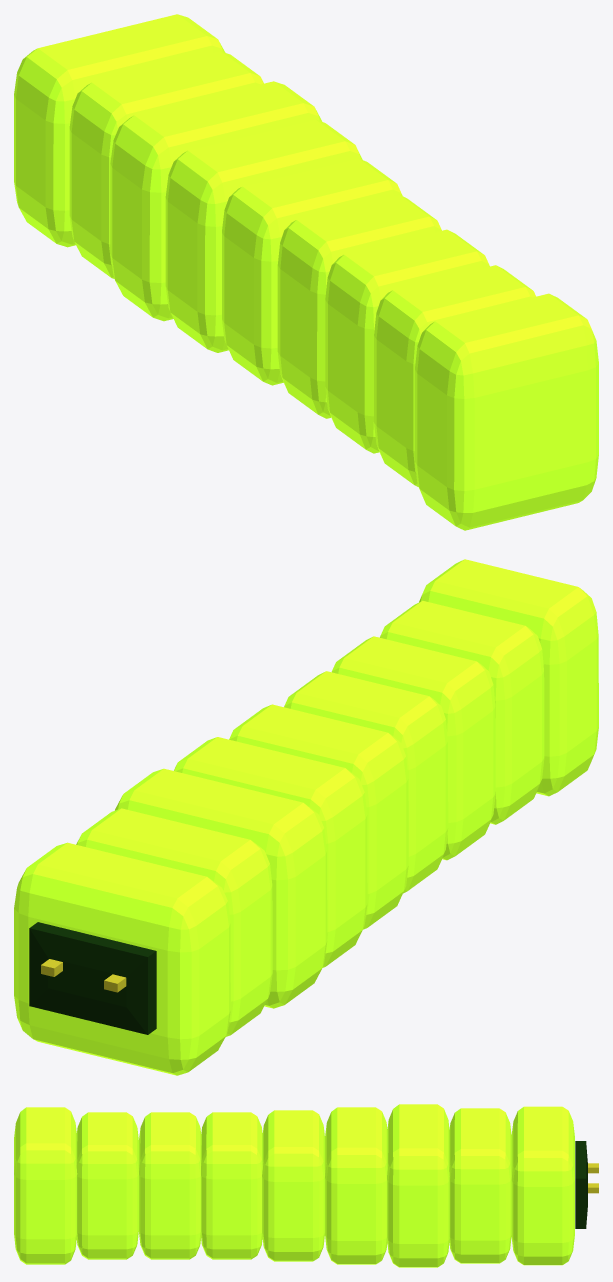
Rendered from huhuGrub.glb.
3 renders of one model, top to bottom at view 1: azimuth 30°, elevation 25°; view 2: azimuth 150°, elevation 25°; view 3: azimuth 270°, elevation 25°, orthographic. The views are drawn at different scales.
Visible parts, largest first — view 1: Cube; view 2: Cube, Cube.009; view 3: Cube, Cube.009.
Boxes of the visible parts, x1=… form: Cube: x1=14, y1=14, x2=598, y2=530; Cube: x1=14, y1=559, x2=598, y2=1075; Cube.009: x1=29, y1=922, x2=156, y2=1034; Cube: x1=14, y1=1104, x2=574, y2=1267; Cube.009: x1=575, y1=1141, x2=587, y2=1228.
Size of the model in its own units: 1.08 by 1.06 by 4.62.
